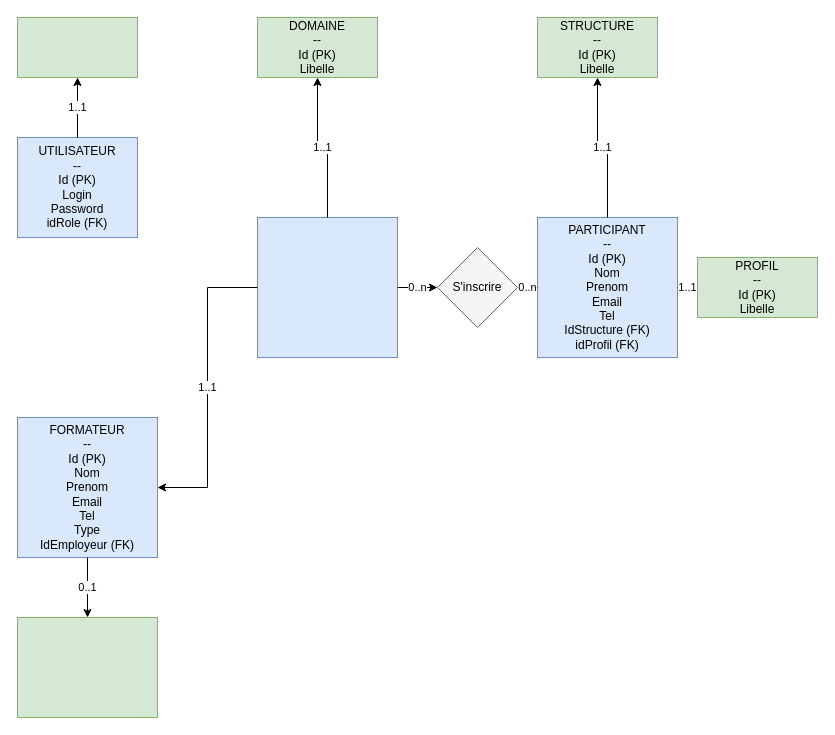
Some shapes in this 835 by 735 pixel diagram are drawn without their labels. The shapes that lost their labels are listed below. From the top down, each one's box as (x1, y1, x2, y2) in pixels, then its label:
(16, 16, 138, 78): ROLE -- Id (PK) Nom
(256, 216, 398, 358): FORMATION -- Id (PK) Titre Annee Duree Budget idDomaine (FK) idFormateur (FK)
(16, 616, 158, 718): EMPLOYEUR -- Id (PK) nomEmployeur adresse nom telephone
